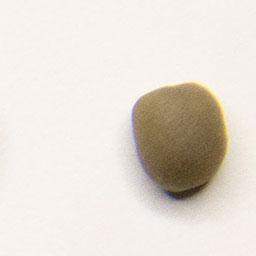peaberry: (126, 81, 230, 196)
